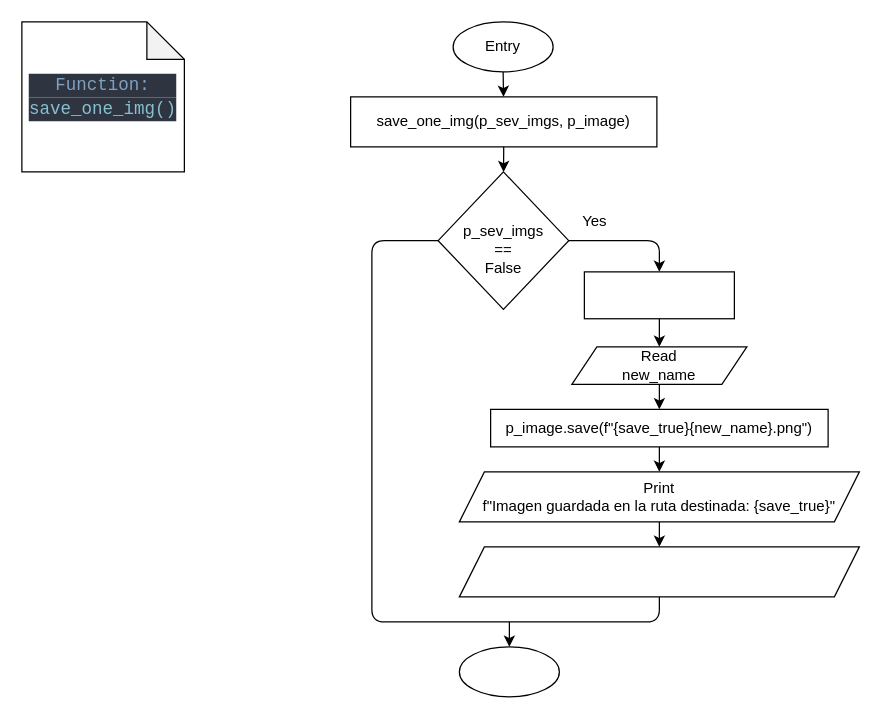
This 881x719 diagram has some shape labels left out. Each missing label, with the centre of its shape:
End: point (508, 671)
Print "\nGracias por utilizar ImageWatermark Tool.\n": point (658, 571)
save_true = verify_save_dir(): point (658, 295)
